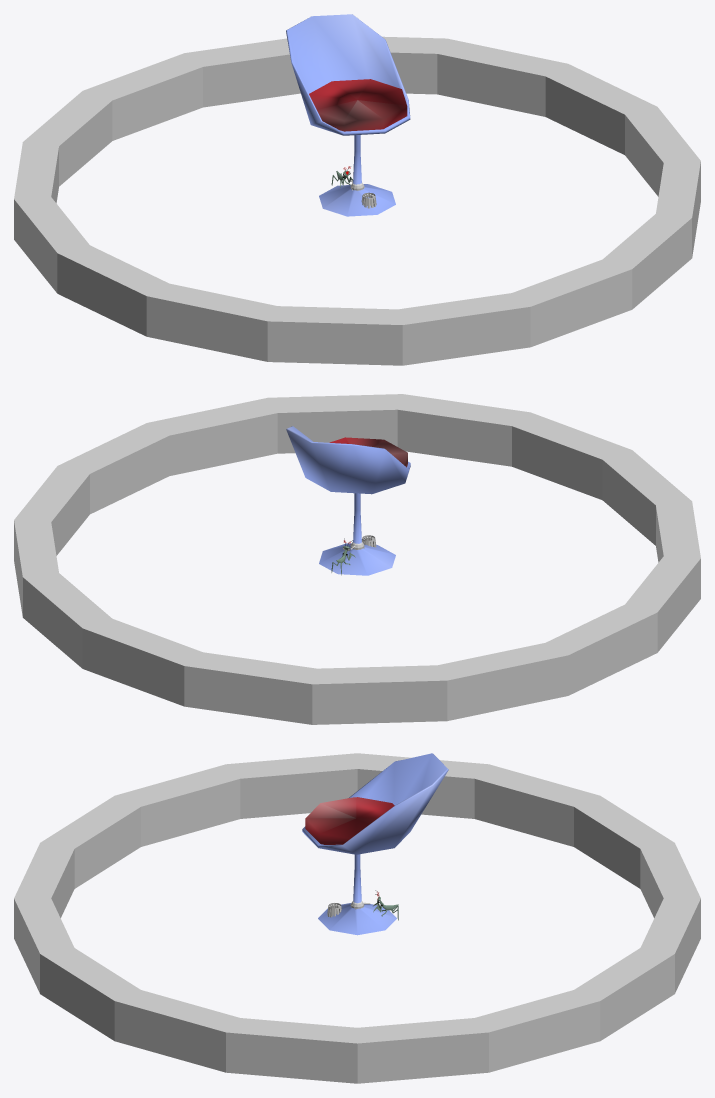
Rendered from SafeAreaTorus.fbx.
The picture shows the model from 3 angles, top to bottom: view 1: azimuth 30°, elevation 25°; view 2: azimuth 150°, elevation 25°; view 3: azimuth 270°, elevation 25°; orthographic projection.
Parts seen in each view (by area): view 1: SafeAreaTorus, Cadeira; view 2: SafeAreaTorus, Cadeira; view 3: SafeAreaTorus, Cadeira.
Part boxes in pixels (x1=…): SafeAreaTorus: x1=14, y1=36, x2=700, y2=365; Cadeira: x1=286, y1=14, x2=410, y2=216; SafeAreaTorus: x1=14, y1=394, x2=700, y2=724; Cadeira: x1=286, y1=426, x2=410, y2=575; SafeAreaTorus: x1=14, y1=753, x2=700, y2=1083; Cadeira: x1=302, y1=753, x2=448, y2=935.
Bounding box in the file's own units: 309 × 84.31 × 309.
